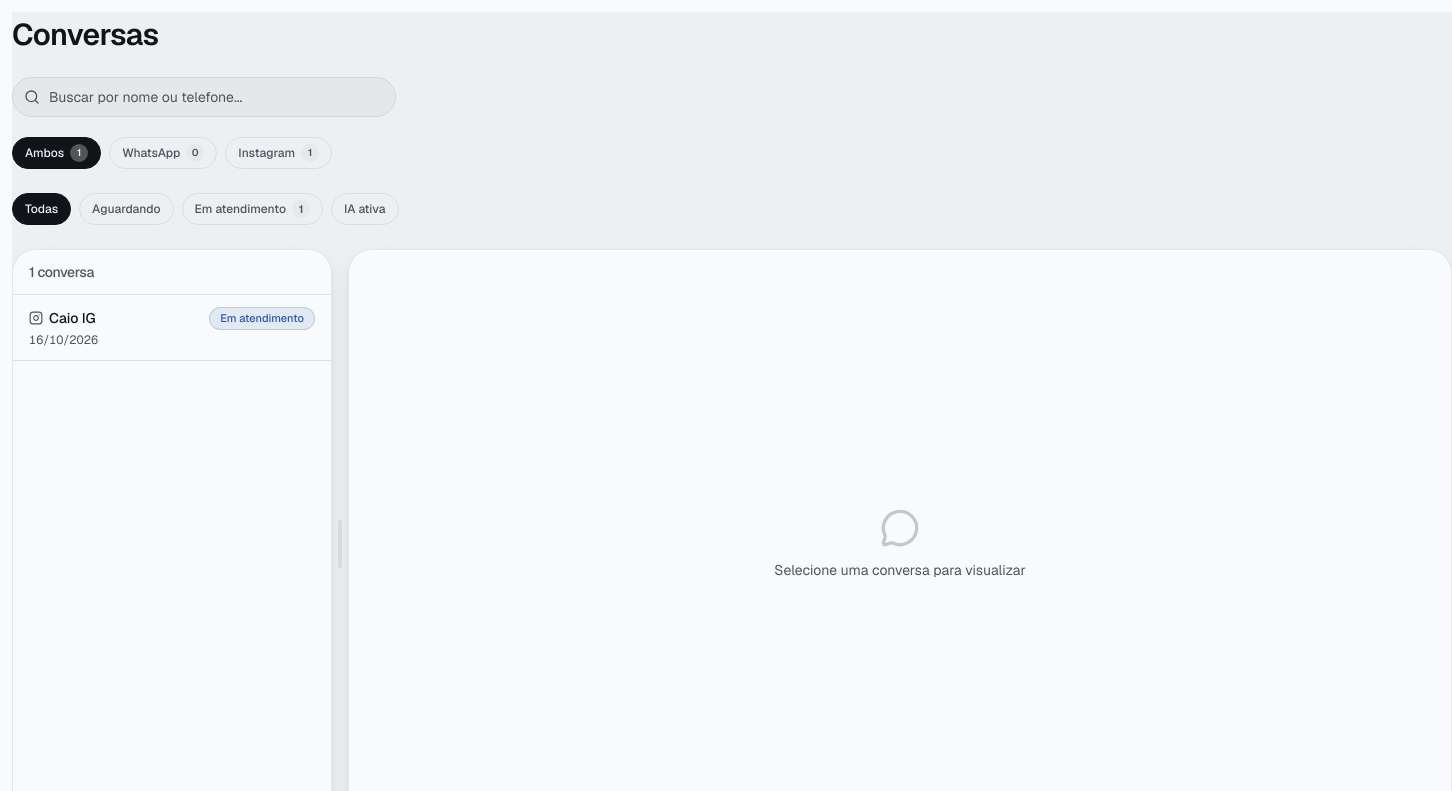
it: Conversa do Instagram: envio, copy e identidade › leitura da conexão com erro não bloqueia (o servidor é o portão)
Click the text "Caio IG".
click(72, 318)  # box x1=49 y1=308 x2=96 y2=328
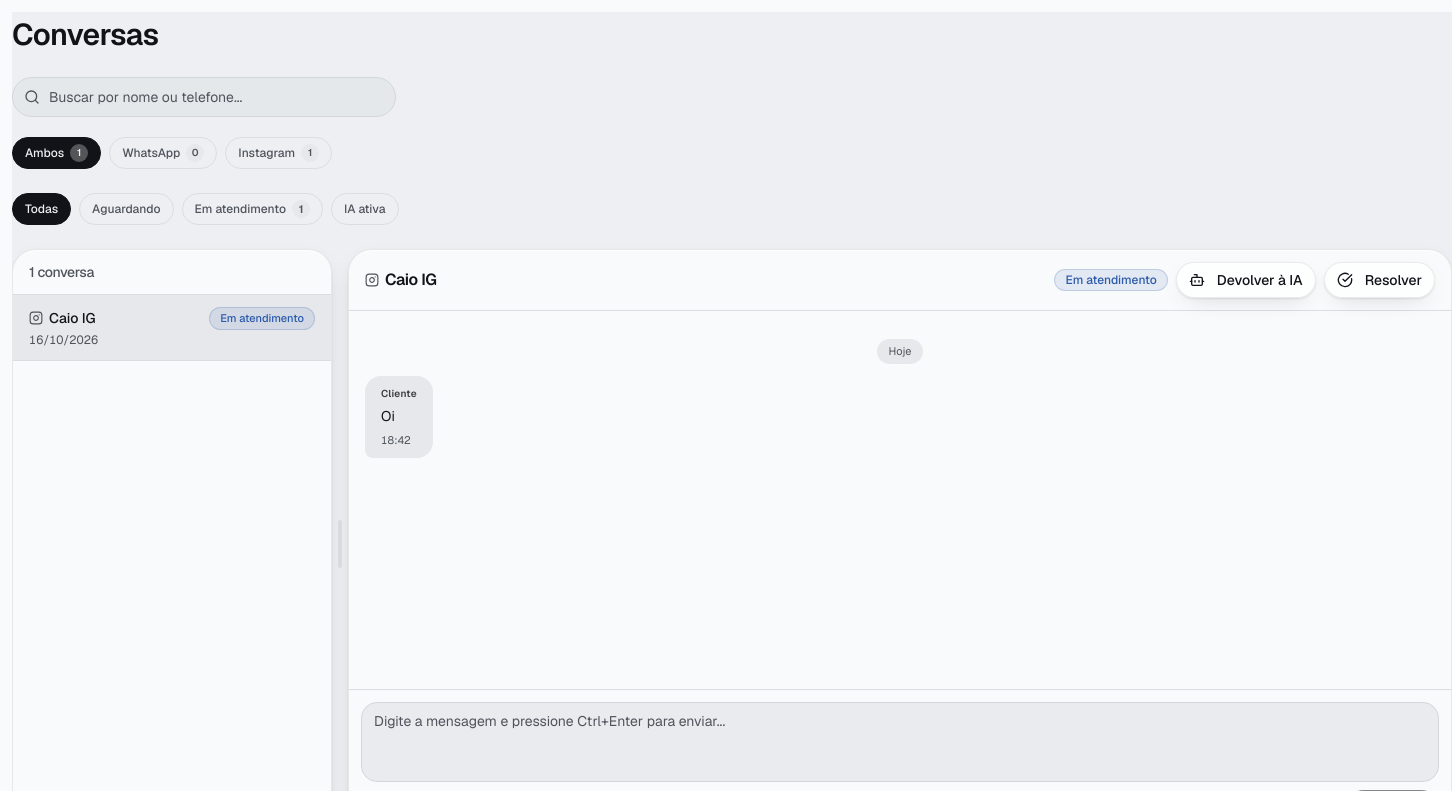
Result: the text "Oi" is shown at x1=381 y1=406 x2=395 y2=424
Result: the text box with placeholder "Digite a mensagem e pressione Ctrl+Enter para enviar..." is enabled at x1=361 y1=702 x2=1439 y2=782
